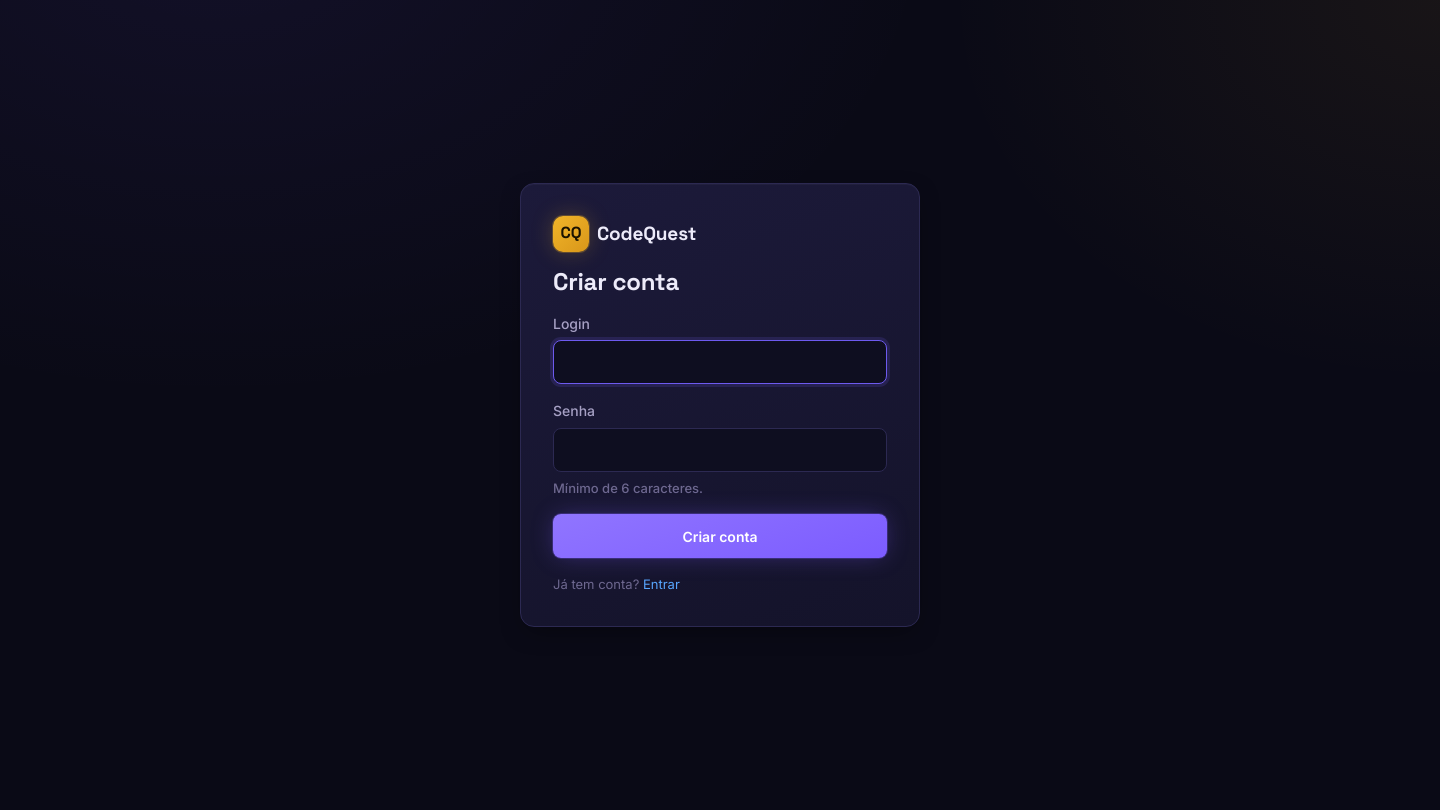
Test: Registrar › mostra a mensagem de erro quando o login já está em uso
Type "existente" into the field labelled "Login" at point(720, 362), box [553,340,887,384]
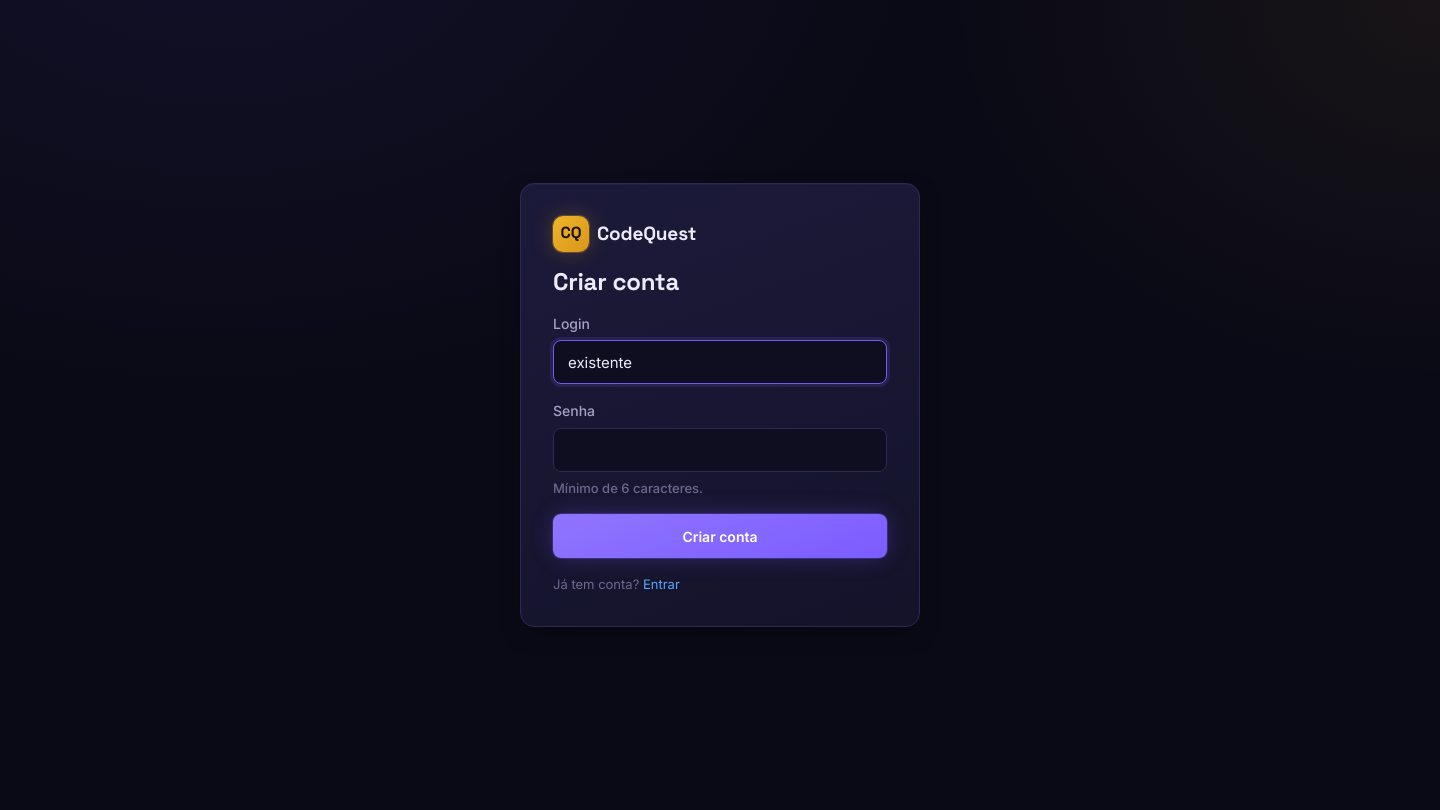
Type "segredo123" into the password field labelled "Senha Mínimo de 6 caracteres." at point(720, 450), box [553,428,887,472]
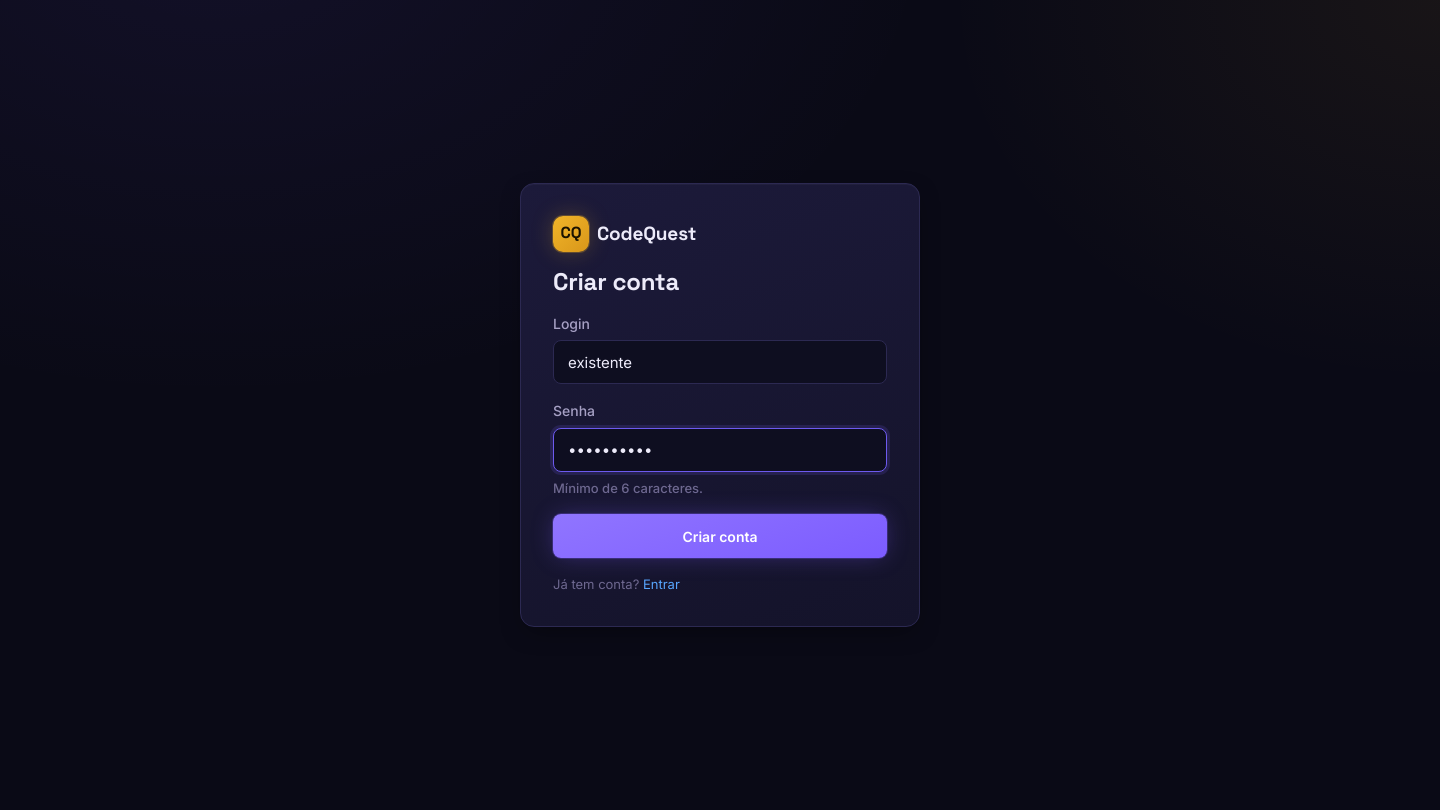
Click the button "Criar conta" at point(720, 536), box [553,514,887,558]
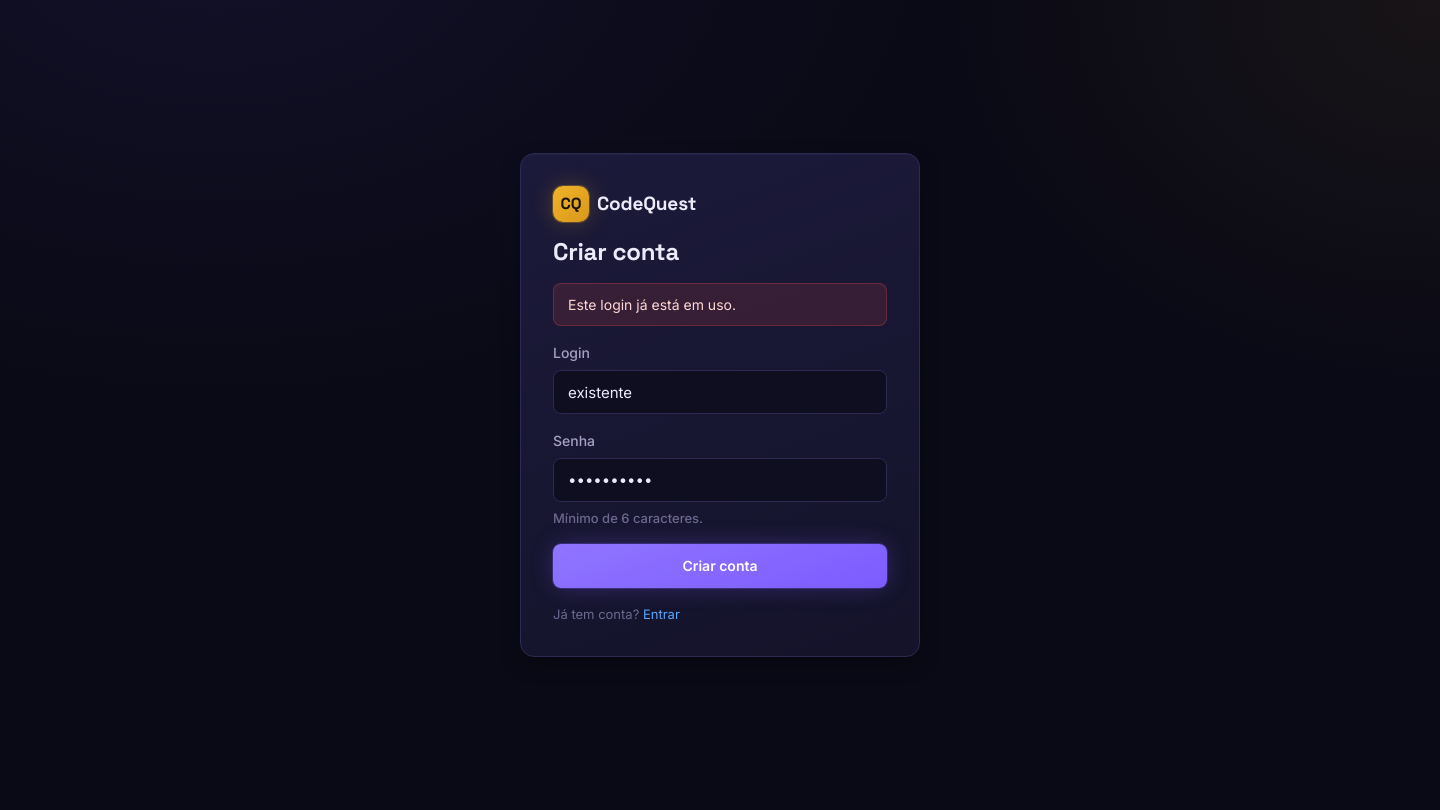
Now the text "Este login já está em uso." is shown, box [553,283,887,326]
